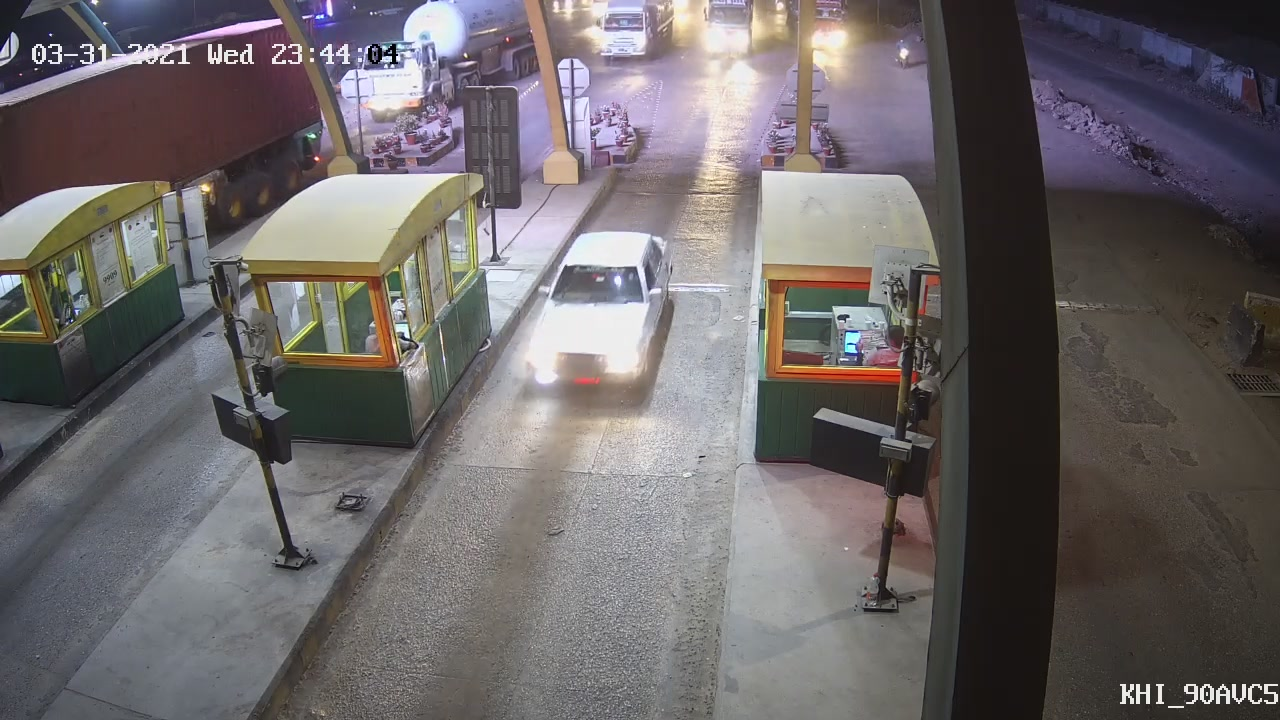F1: (517, 225, 678, 396)
